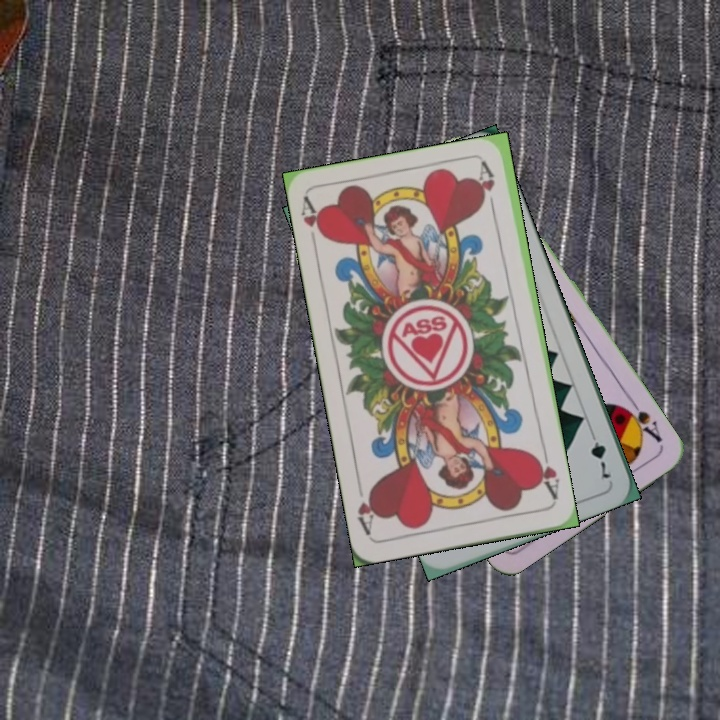G7: (585, 425, 614, 483)
HA: (297, 194, 329, 253), (530, 445, 562, 503)
SA: (617, 395, 665, 446)
